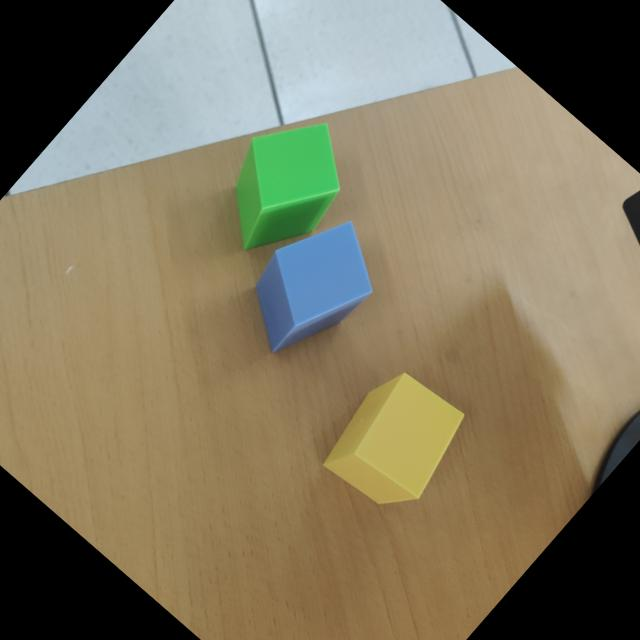blue: (254, 223, 371, 354)
green: (233, 124, 339, 252)
yellow: (322, 374, 464, 507)
